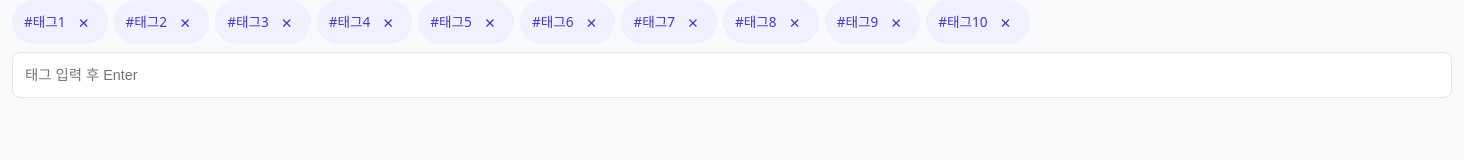
Test: TagInput › 이미 태그가 10개 있는 상태에서 추가를 시도하면 거부된다
The image size is (1464, 160).
Type "새태그" into the field with placeholder "태그 입력 후 Enter".
click(732, 75); type("새태그")  # box [12, 52, 1452, 98]
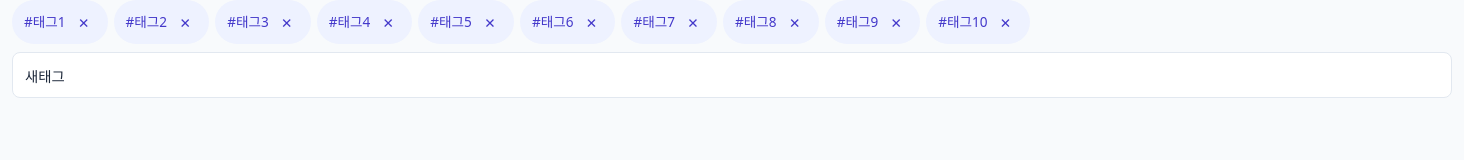
Press Enter in the field, box [12, 52, 1452, 98]
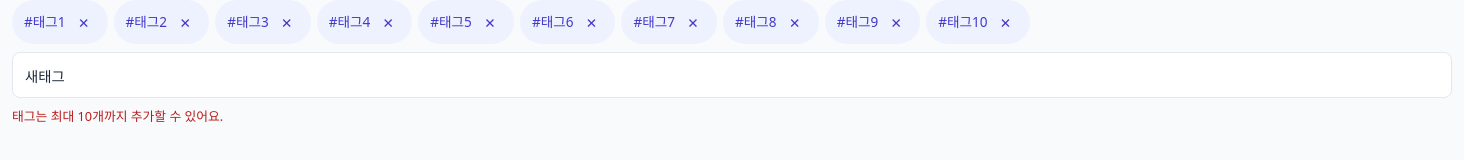
Now the text "10개" is shown, box [12, 107, 223, 125]
